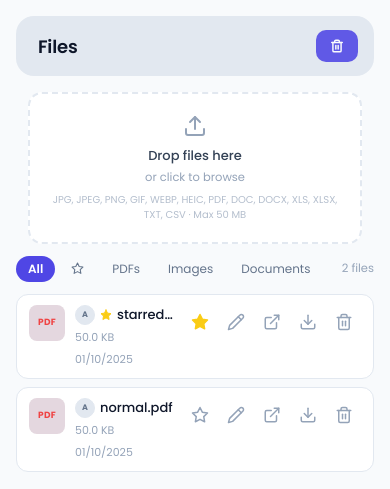
it: FileManager › FE-COMP-FILEMANAGER-018: starred filter shows only starred files
// The starred filter tab only appears when there are starred files
Click the button without text in the row of "2 files" at x=78, y=269, box x1=59 y1=256 x2=96 y2=282
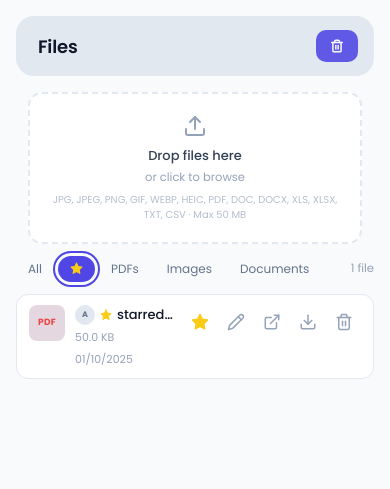
Expected: the text "starred.pdf" is shown, x1=117 y1=305 x2=173 y2=324
Expected: the text "normal.pdf" is gone
